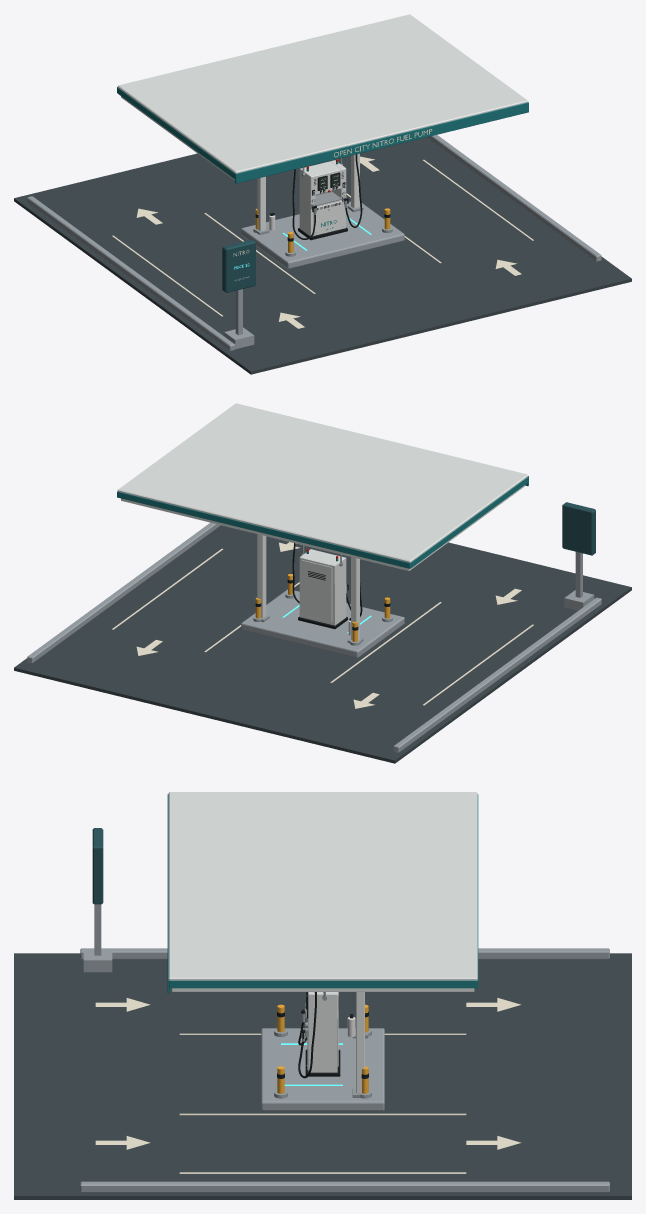
The model's file is oc_nitro_station_01.glb.
3 renders of one model, top to bottom at view 1: azimuth 30°, elevation 25°; view 2: azimuth 150°, elevation 25°; view 3: azimuth 270°, elevation 25°, orthographic. The views are drawn at different scales.
Parts seen in each view (by area): view 1: Station forecourt.001, Canopy roof, Raised service island.001, Canopy front colour band, Side kerb.002, Side kerb.003, Price sign housing.001, Left frame upright, Lower access door, Canopy side colour band, Electronics head; view 2: Station forecourt.001, Canopy roof, Raised service island.001, Side kerb.002, Side kerb.003, Canopy rear colour band, Rear cabinet cover, Price sign housing.001, Canopy ceiling, Left frame upright, Canopy side colour band, Canopy steel column.001 (+1 smaller); view 3: Station forecourt.001, Canopy roof, Raised service island.001, Side kerb.003, Canopy side colour band.001, Side kerb.002, Right frame upright, Canopy ceiling, Price sign housing.001, Bay line.006, Canopy steel column.001, Price sign pedestal.001 (+1 smaller).
Part boxes in pixels (box(x1,y1,x2,y2)): Station forecourt.001: box(14, 137, 631, 374); Canopy roof: box(117, 14, 528, 173); Raised service island.001: box(241, 201, 404, 268); Canopy front colour band: box(235, 102, 528, 183); Side kerb.002: box(27, 196, 235, 351); Side kerb.003: box(427, 135, 601, 261); Price sign housing.001: box(222, 239, 255, 292); Left frame upright: box(299, 167, 315, 235); Lower access door: box(313, 201, 343, 235); Canopy side colour band: box(117, 87, 235, 179); Electronics head: box(305, 161, 345, 195); Station forecourt.001: box(14, 525, 631, 763); Canopy roof: box(117, 403, 528, 562); Raised service island.001: box(241, 589, 404, 657); Side kerb.002: box(393, 597, 601, 752); Side kerb.003: box(27, 522, 220, 663); Canopy rear colour band: box(117, 491, 410, 568); Rear cabinet cover: box(302, 560, 332, 621); Price sign housing.001: box(562, 502, 595, 555); Canopy ceiling: box(121, 485, 524, 570); Left frame upright: box(330, 556, 346, 625); Canopy side colour band: box(410, 476, 528, 568); Canopy steel column.001: box(257, 534, 266, 618); Station forecourt.001: box(14, 953, 631, 1199); Canopy roof: box(168, 792, 477, 980); Raised service island.001: box(261, 1028, 384, 1110); Side kerb.003: box(80, 1181, 609, 1192); Canopy side colour band.001: box(169, 980, 476, 988); Side kerb.002: box(80, 948, 609, 959); Right frame upright: box(308, 992, 337, 1072); Canopy ceiling: box(171, 988, 474, 991); Price sign housing.001: box(92, 828, 103, 904); Bay line.006: box(179, 1113, 466, 1115); Canopy steel column.001: box(356, 992, 364, 1093); Price sign pedestal.001: box(83, 948, 112, 972).
Bounding box in the file's own units: 13 × 4.85 × 14.
